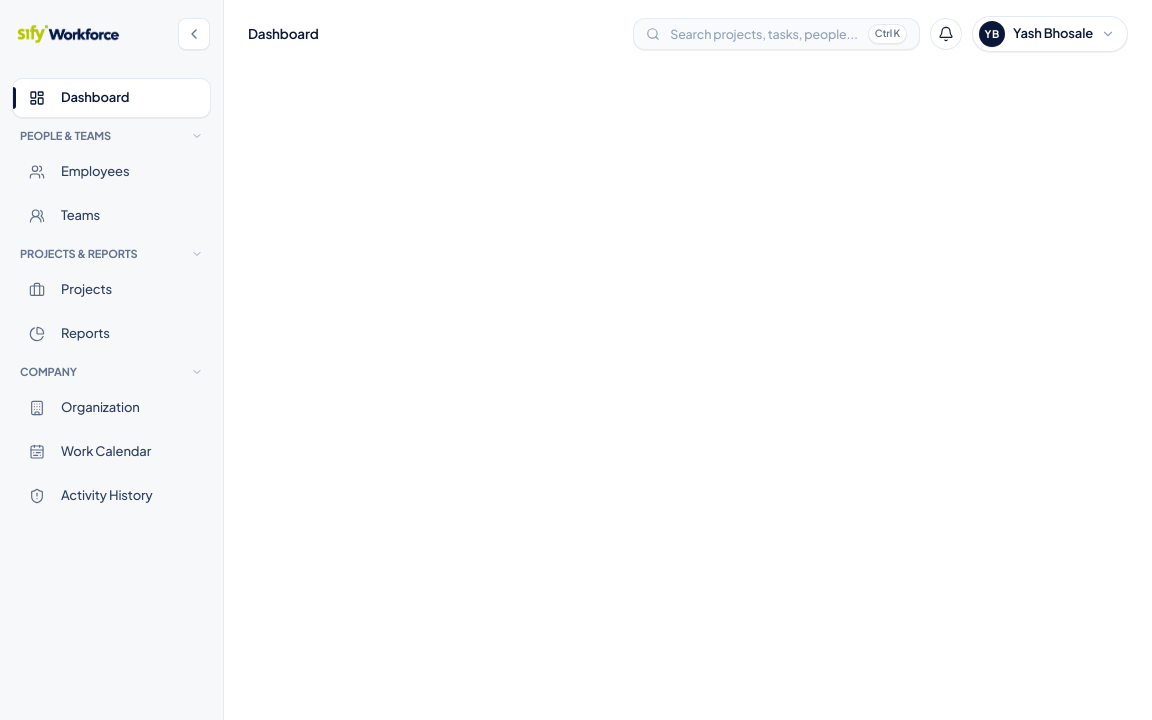
Sidebar and Header Refactor — Sify Workforce Platform › Sidebar Collapse and Expand Feature › collapses and expands sidebar on toggle button click
This screenshot has width=1152, height=720.
Note: Click to collapse
Click the button named "collapse sidebar". click: click(194, 34)
box: [178,18,210,50]
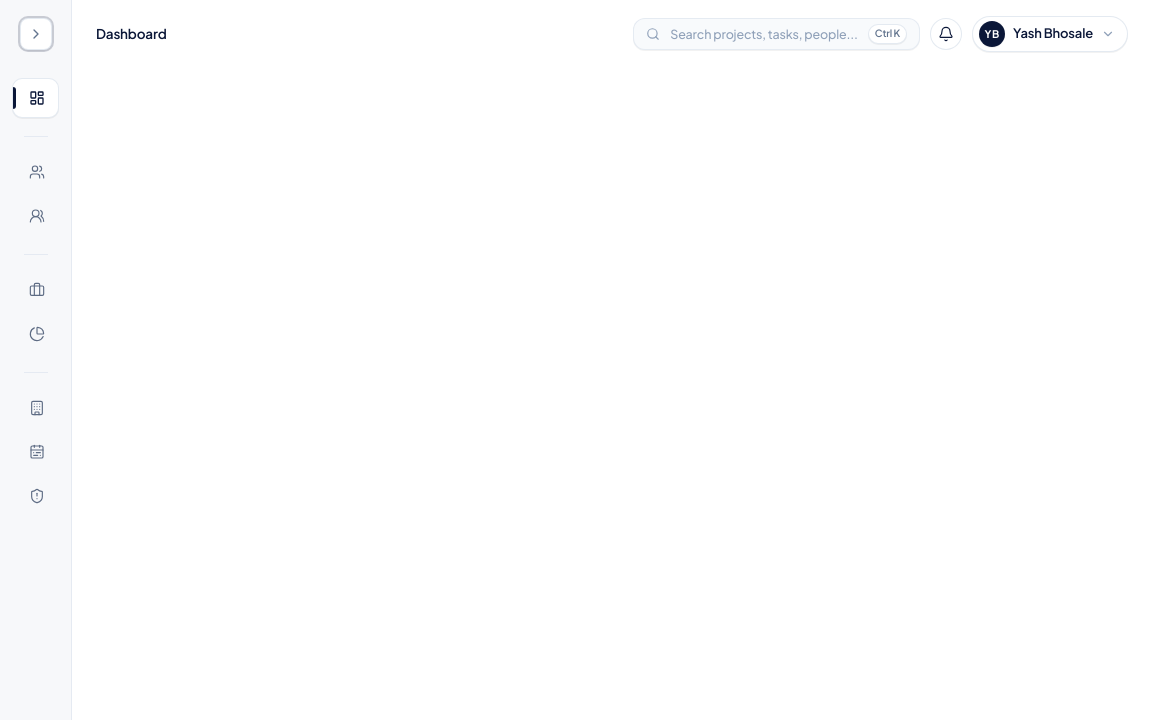
Expected: the button named "expand sidebar" is shown
Note: Click to expand again
Click the button named "expand sidebar". click: click(36, 34)
box: [20,18,52,50]
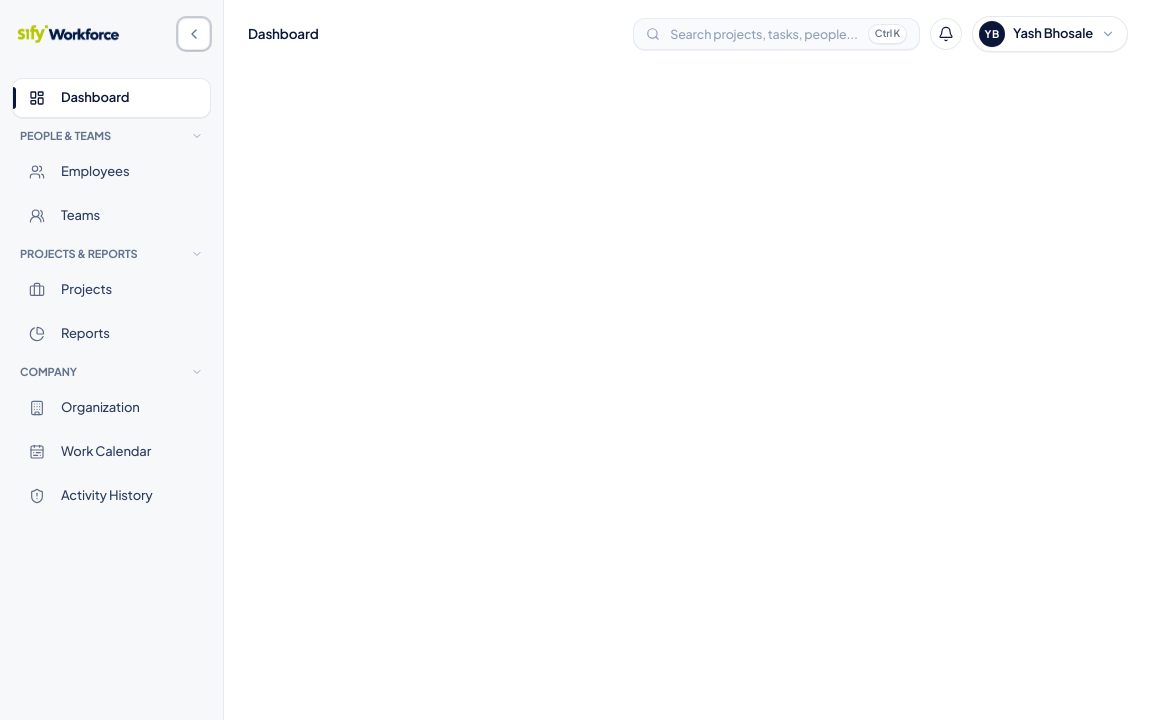
Expected: the button named "collapse sidebar" is shown, [178,18,210,50]
